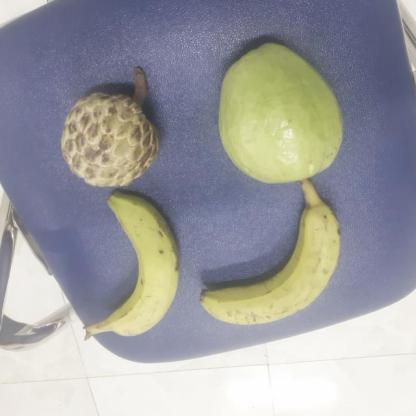annona: (55, 92, 159, 193)
banana: (196, 196, 346, 328), (99, 193, 181, 348)
guava: (218, 44, 346, 188)
